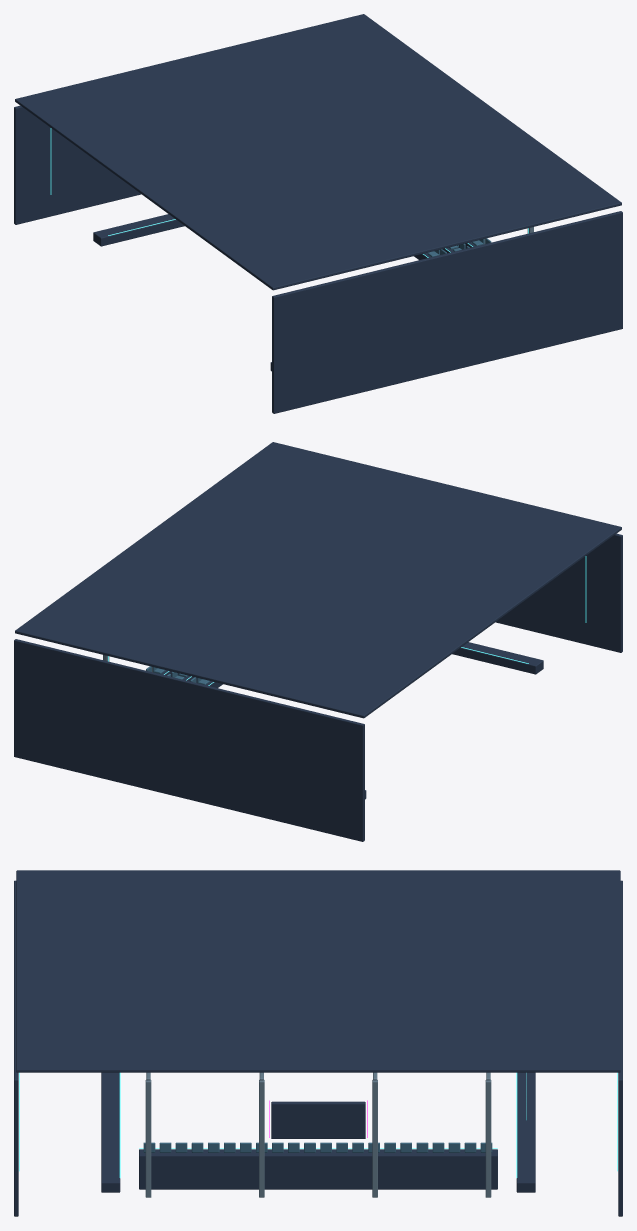
File: motion-arena.glb
3 views of the same model, one above another, from view 1: azimuth 30°, elevation 25°; view 2: azimuth 150°, elevation 25°; view 3: azimuth 270°, elevation 25° (orthographic). The views are drawn at different scales.
Parts seen in each view (by area): view 1: Interior end wall; view 2: Interior end wall; view 3: Interior end wall, Arena column, Spectator seat, Wall inset light.
Part boxes in pixels (left/top/right/bottom): Interior end wall: left=14, top=14, right=622, bottom=413; Interior end wall: left=14, top=442, right=622, bottom=841; Interior end wall: left=14, top=870, right=622, bottom=1216; Arena column: left=145, top=1072, right=491, bottom=1197; Spectator seat: left=143, top=1142, right=492, bottom=1152; Wall inset light: left=19, top=1072, right=617, bottom=1177.
Bounding box in the file's own units: 25 × 8.6 × 32.25.
